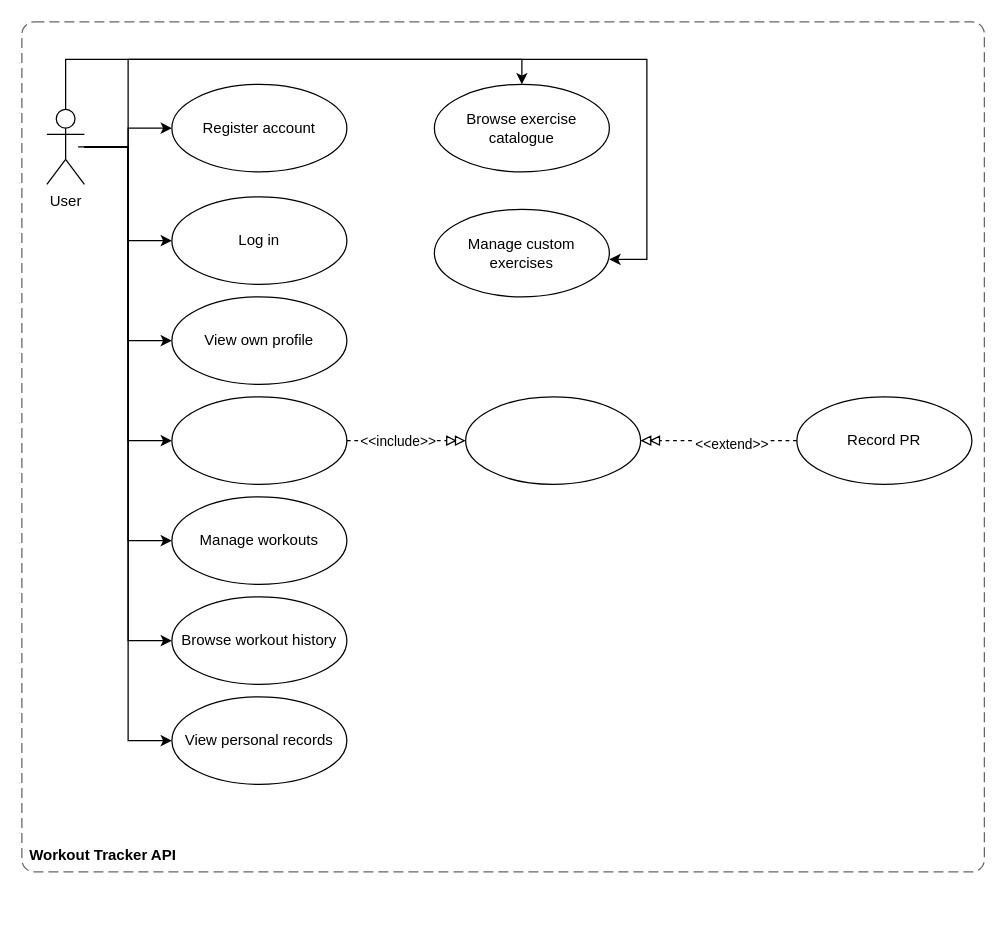
The diagram is 1006 pixels wide and 934 high, and some of its shapes have lost their labels. Each missing label, with the centre of its shape:
"Log a set" belongs at point 552,440.
"Log a workout" belongs at point 259,440.
